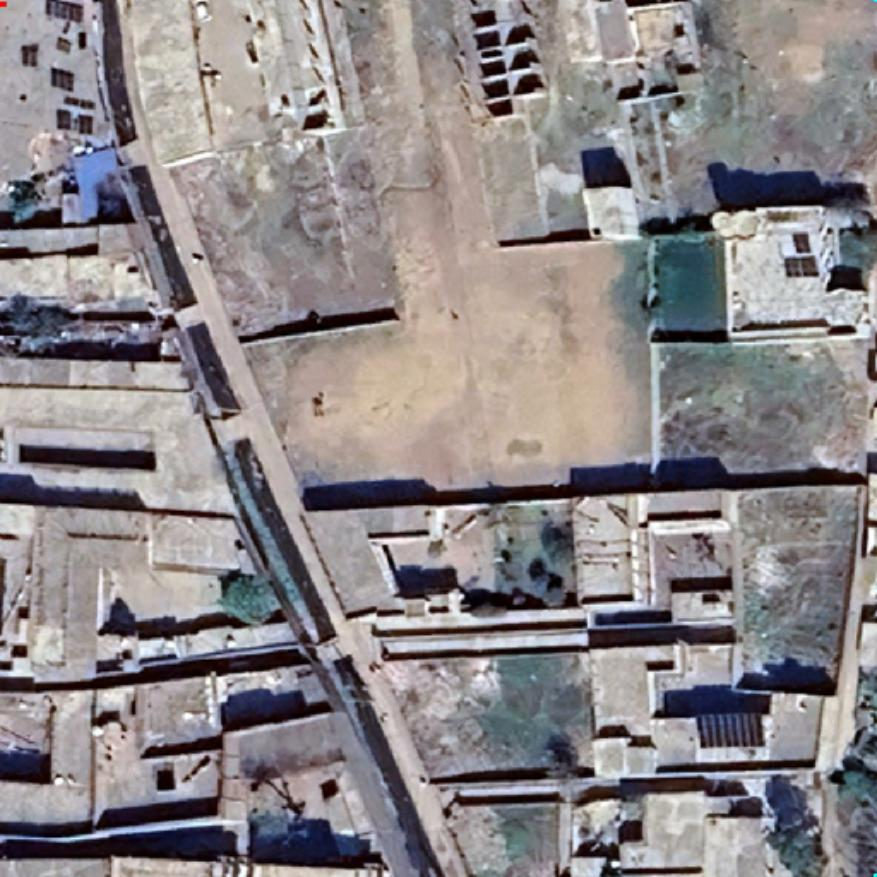Solarpanel: (691, 704, 771, 754), (774, 228, 823, 281), (52, 103, 98, 139), (37, 0, 84, 26), (47, 61, 80, 95), (20, 43, 37, 65)
